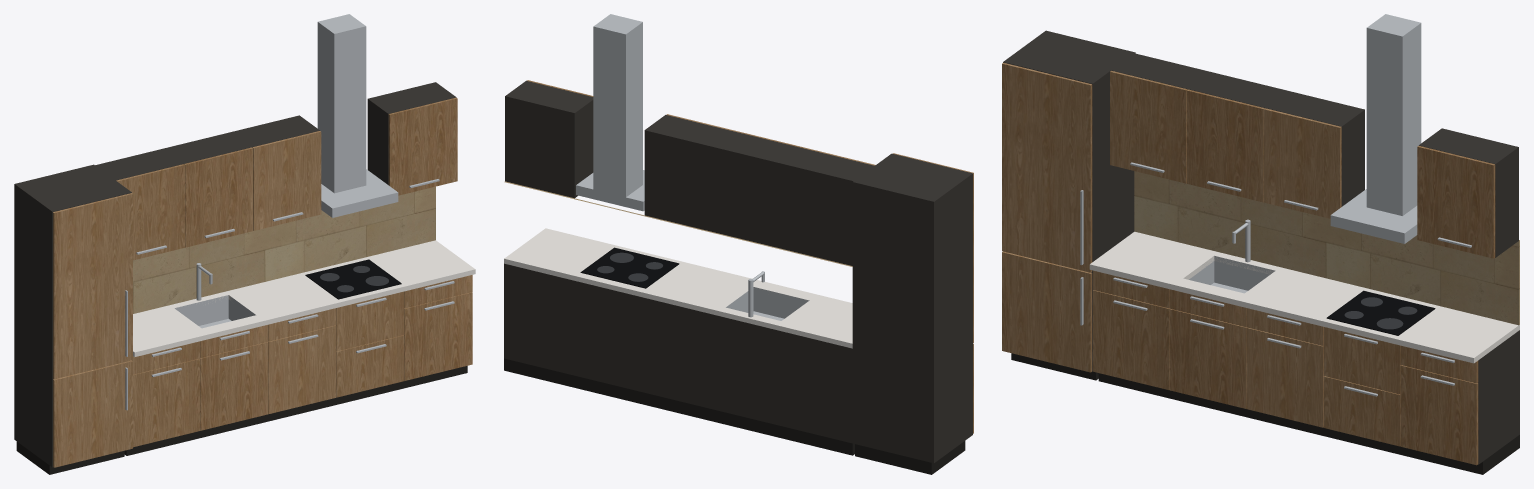
File: kitchen.glb
The picture shows the model from 3 angles, left to right: view 1: azimuth 30°, elevation 25°; view 2: azimuth 150°, elevation 25°; view 3: azimuth 330°, elevation 25°; orthographic projection. The views are drawn at different scales.
Visible parts, largest first — view 1: kitchen; view 2: kitchen; view 3: kitchen.
Part boxes in pixels (x1,y1,x2,y2): kitchen: (14, 14, 475, 474); kitchen: (504, 14, 973, 474); kitchen: (1002, 14, 1519, 474).
Size of the model in its own units: 3.7 by 3 by 0.622.
Materials: 8 (2 with a texture image).
